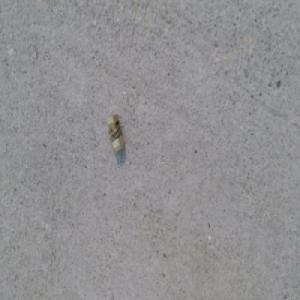BoltNutSet: (107, 115, 124, 152)
